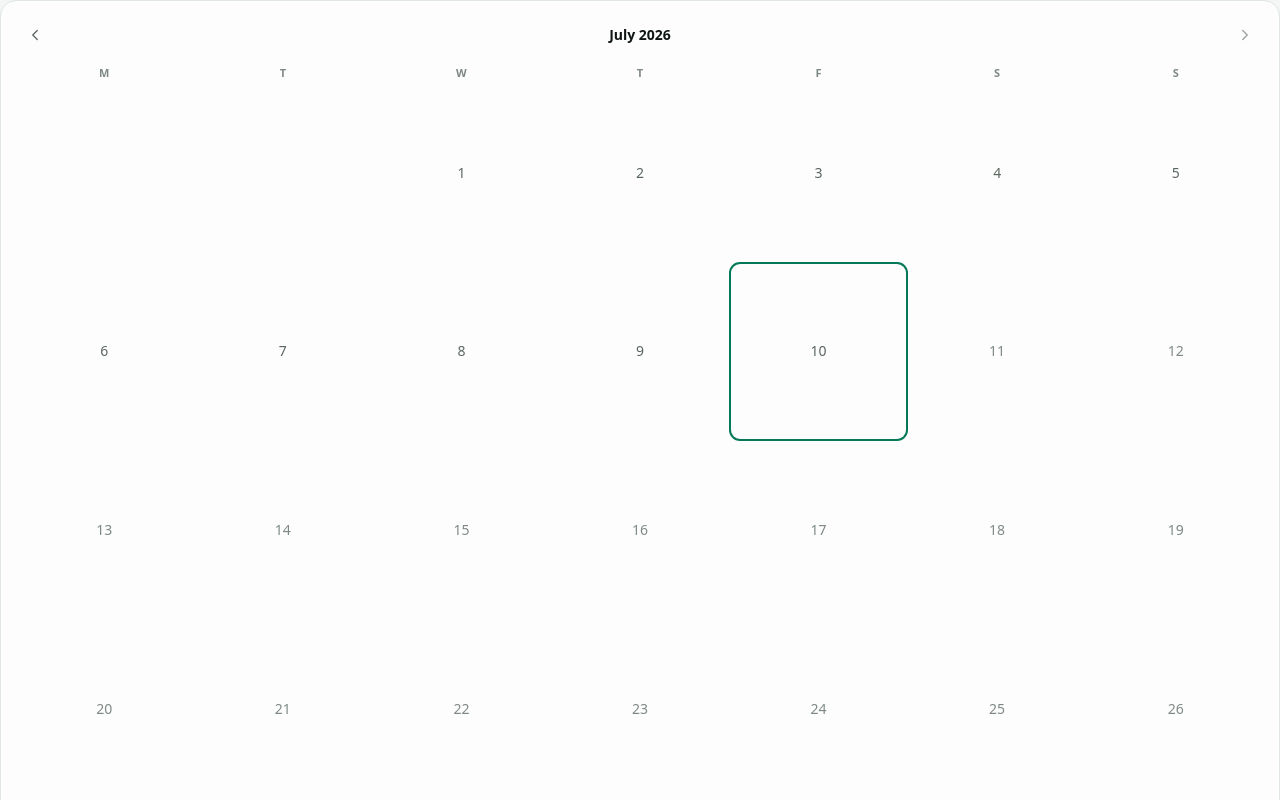
Scenario: MonthTab days subscription › goes back to the later income year when stepping forward over the June and July boundary
expect the heading "July 2026" is shown: met, box top-left (609, 25), bottom-right (671, 45)
Click the button named "Previous month".
click(35, 35)  # box top-left (17, 17), bottom-right (53, 53)
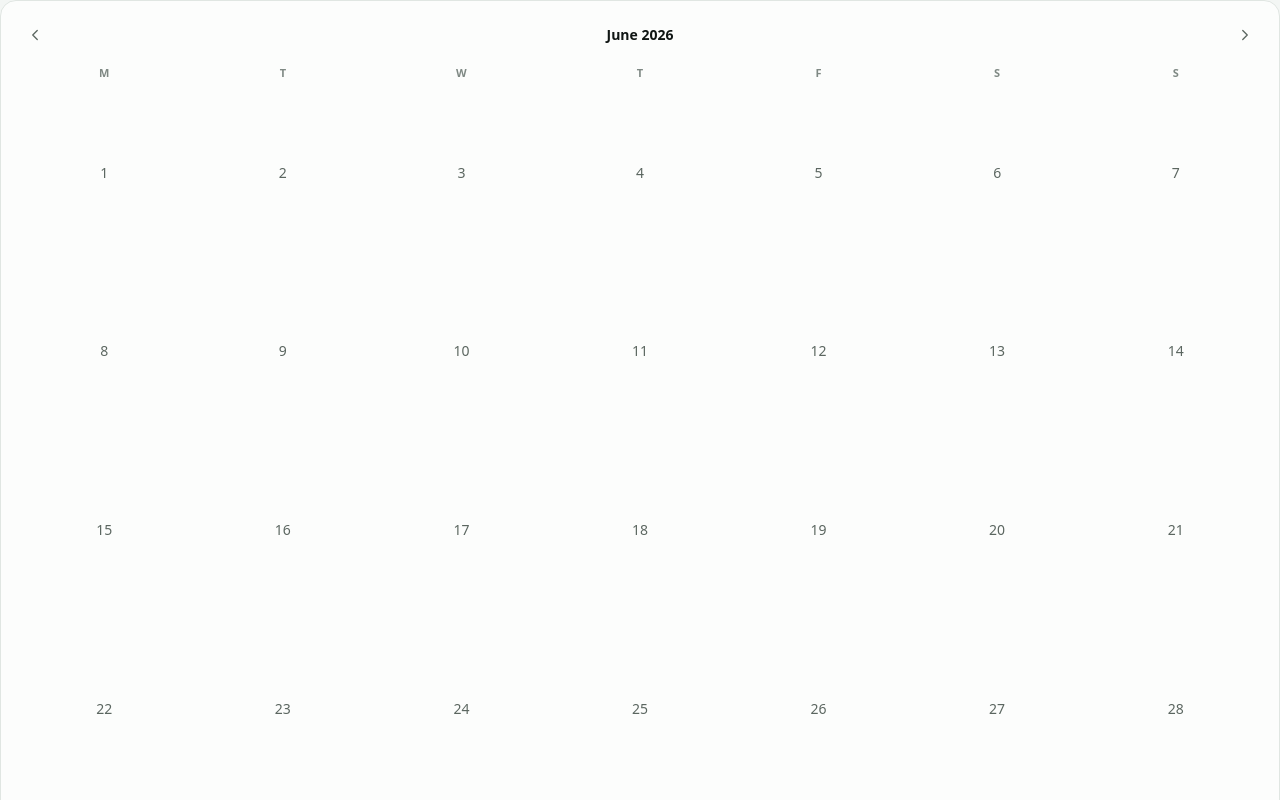
expect the heading "June 2026" is shown: met, box top-left (606, 25), bottom-right (674, 45)
Click the button named "Next month".
click(1245, 35)  # box top-left (1227, 17), bottom-right (1263, 53)
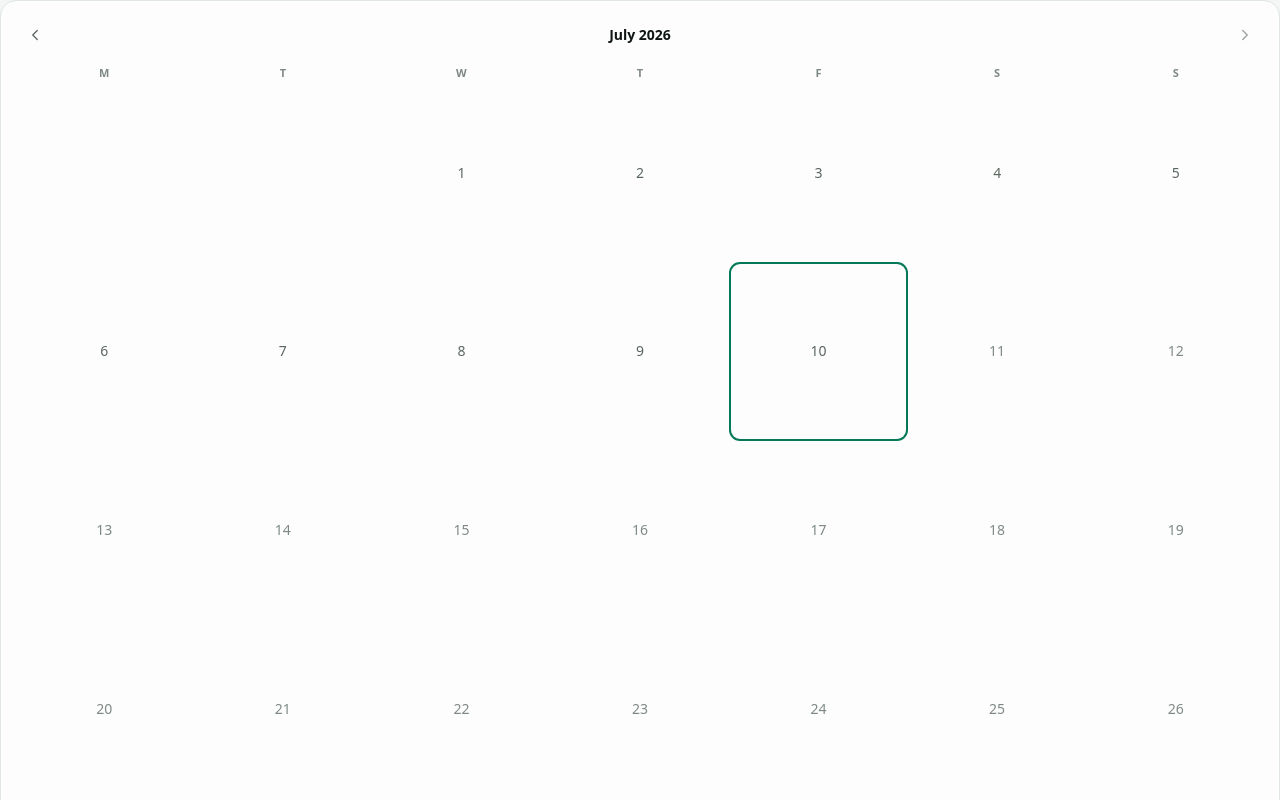
expect the heading "July 2026" is shown: met, box top-left (609, 25), bottom-right (671, 45)
